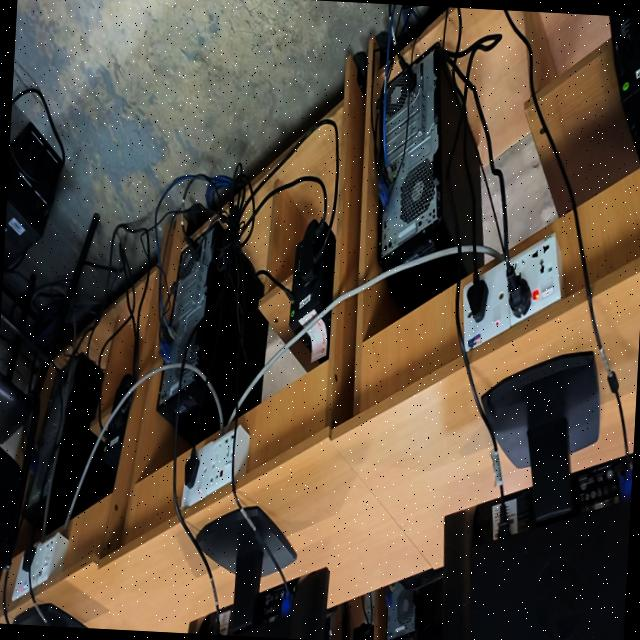Chair: (0, 326, 58, 576), (58, 219, 95, 325)
Cpu: (372, 45, 494, 306), (156, 224, 267, 445), (25, 355, 101, 532), (378, 51, 440, 263), (70, 443, 115, 516)
Monitor: (441, 352, 634, 640), (441, 351, 631, 640), (197, 508, 328, 640), (12, 603, 89, 628)
